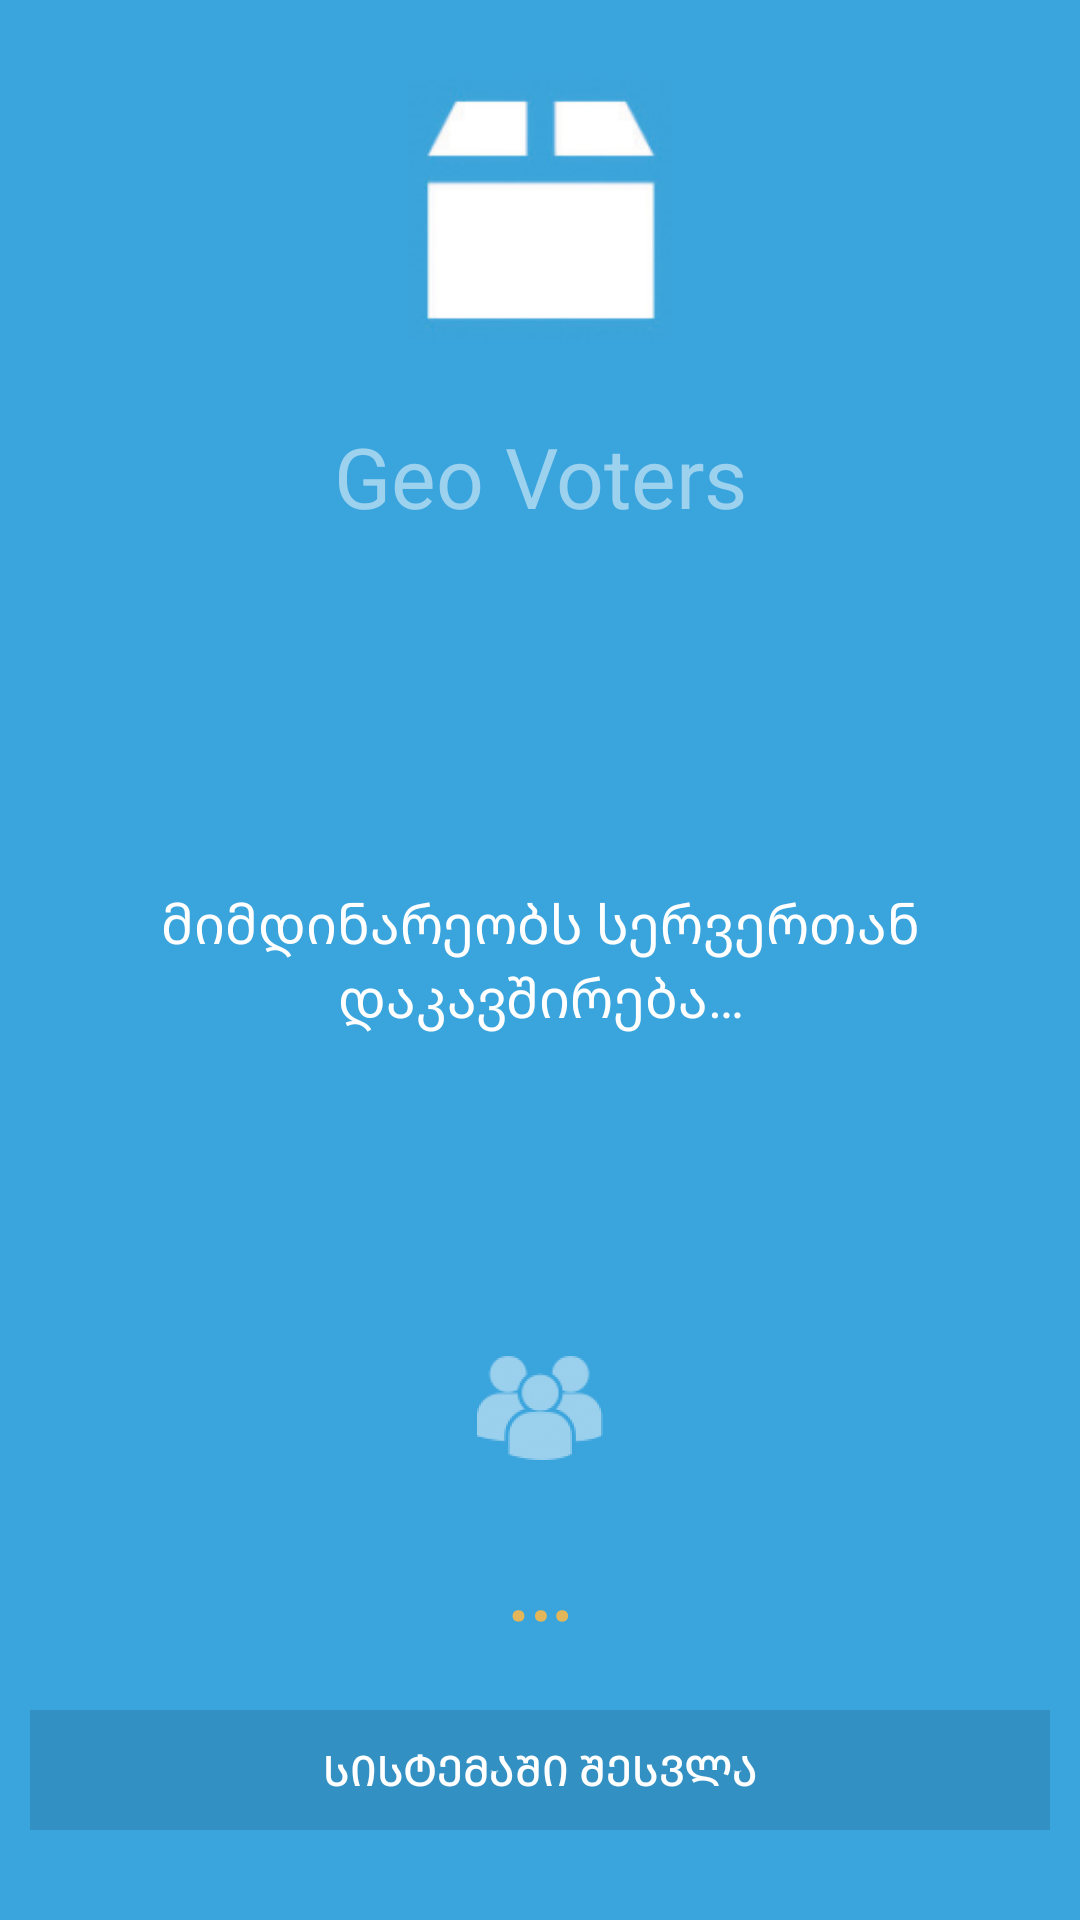

Icons on this 1080x1920 Android screen, each with the point to tap as [x,y]:
Users Image: [540,1408]
